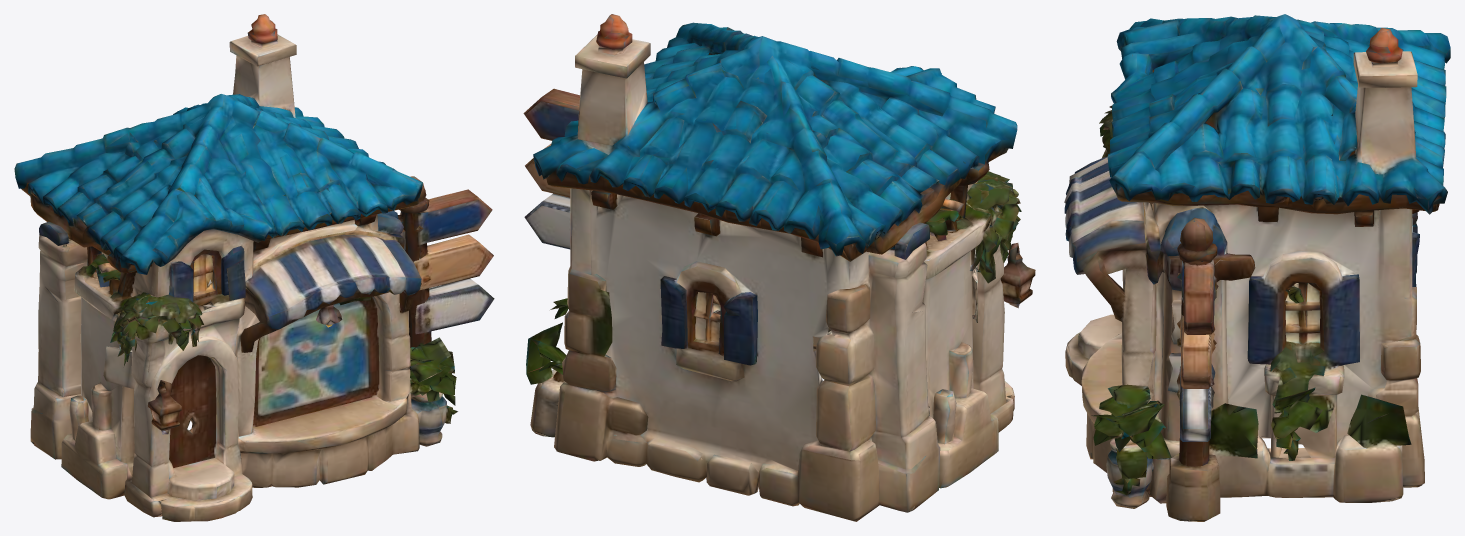
3 views of the same model, side by side, from view 1: azimuth 30°, elevation 25°; view 2: azimuth 150°, elevation 25°; view 3: azimuth 270°, elevation 25° (orthographic). The views are drawn at different scales.
Visible parts, largest first — view 1: harbor__junction_hub__native_mobile; view 2: harbor__junction_hub__native_mobile; view 3: harbor__junction_hub__native_mobile.
Part boxes in pixels (x1,y1,x2,y2): harbor__junction_hub__native_mobile: (14, 14, 494, 521); harbor__junction_hub__native_mobile: (523, 14, 1035, 521); harbor__junction_hub__native_mobile: (1064, 14, 1450, 521).
Bounding box in the file's own units: 1 × 0.8979 × 0.7101.
1 material, 1 textured.
